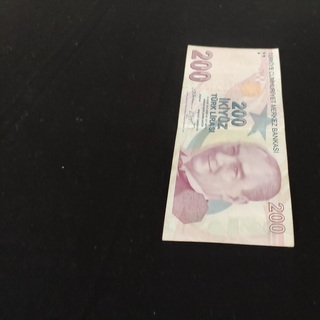200TLFront: (161, 43, 295, 248)
